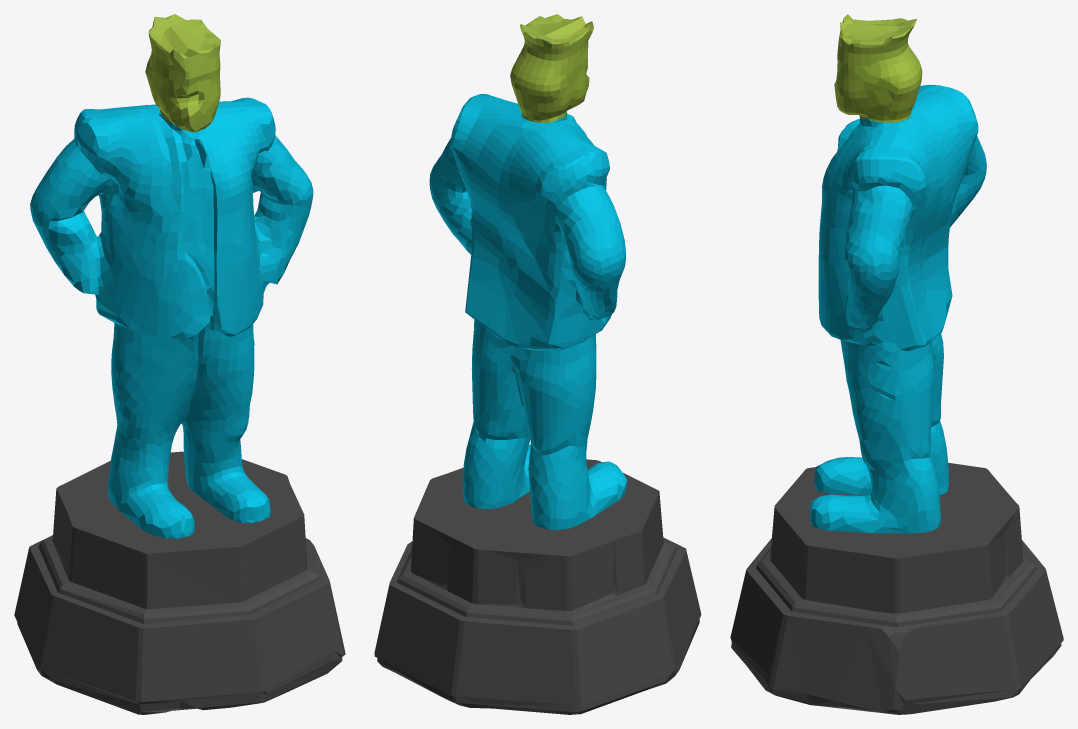
The picture shows the model from 3 angles, left to right: view 1: azimuth 30°, elevation 25°; view 2: azimuth 150°, elevation 25°; view 3: azimuth 270°, elevation 25°; orthographic projection.
Visible parts, largest first — view 1: material.001, material, material.002; view 2: material.001, material, material.002; view 3: material, material.001, material.002.
Boxes of the visible parts, x1,y1,x2,y2 form: material.001: (30,97,313,538); material: (14,451,345,714); material.002: (145,14,220,132); material.001: (429,94,626,529); material: (374,459,701,714); material.002: (510,14,593,122); material: (730,462,1063,714); material.001: (810,85,986,533); material.002: (834,14,922,122).
Bounding box in the file's own units: 0.8729 × 1.88 × 0.908.
3 materials, 1 textured.
